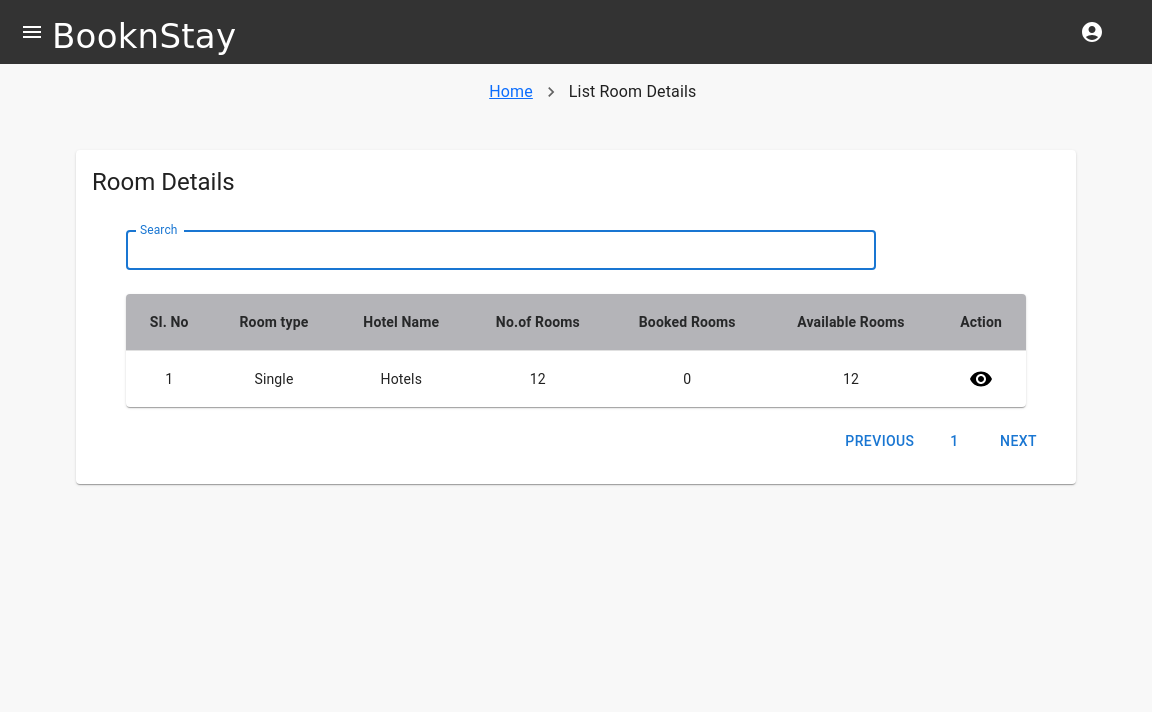
Scenario: testing view room details components › should open the dialog box when the more icon is clicked
Click the icon with test id "view-more-icon": coordinates (981, 379) [969, 367, 993, 391]
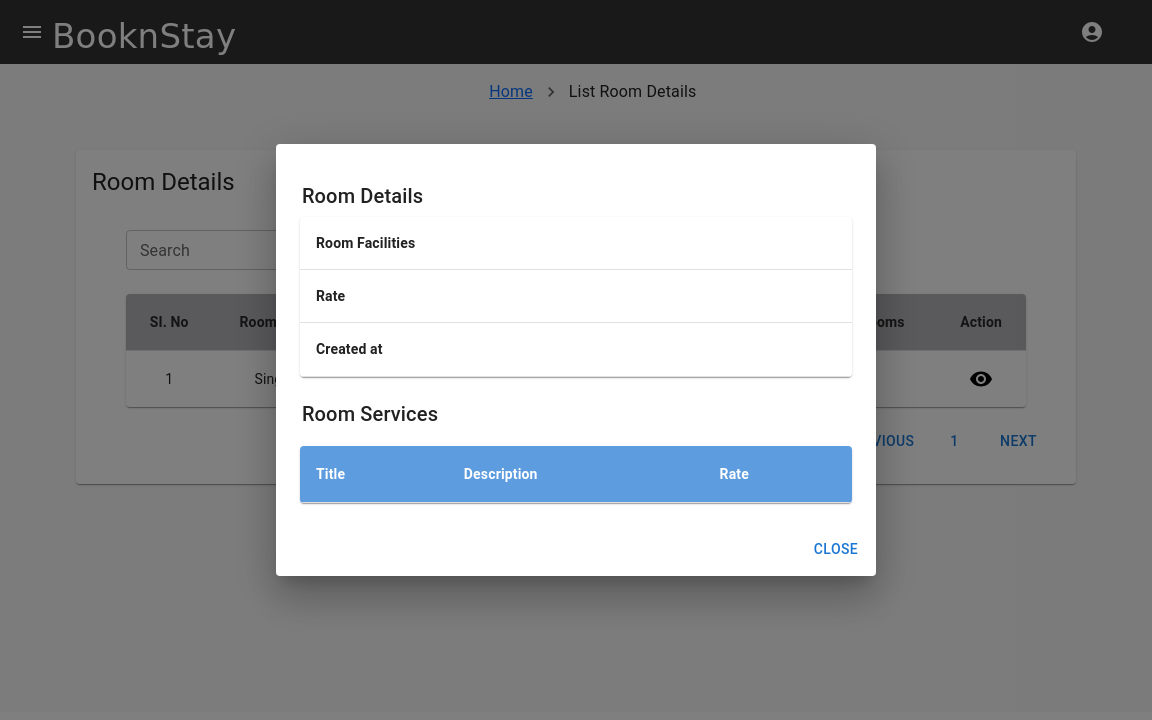
Check: the dialog is shown, box [276, 144, 876, 576]
